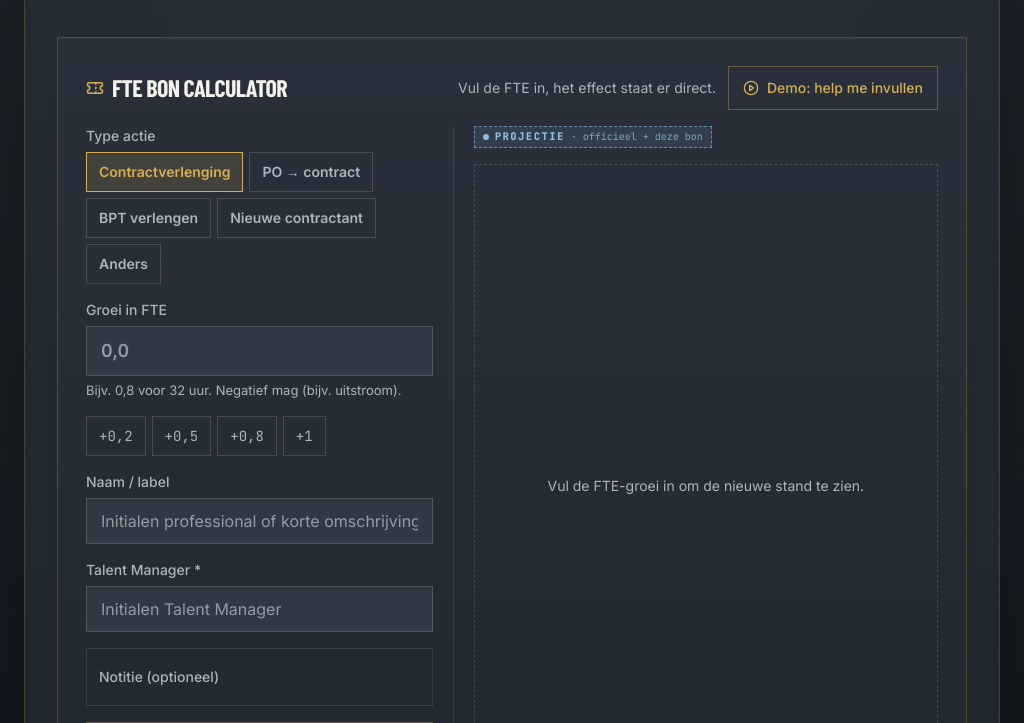
NetFtePage › label and Talent Manager are only needed to save — the calculation works without them
(page scrolled)
In the field labelled "Groei in FTE": [259, 352] box [86, 326, 433, 376], type "1"
(page scrolled)
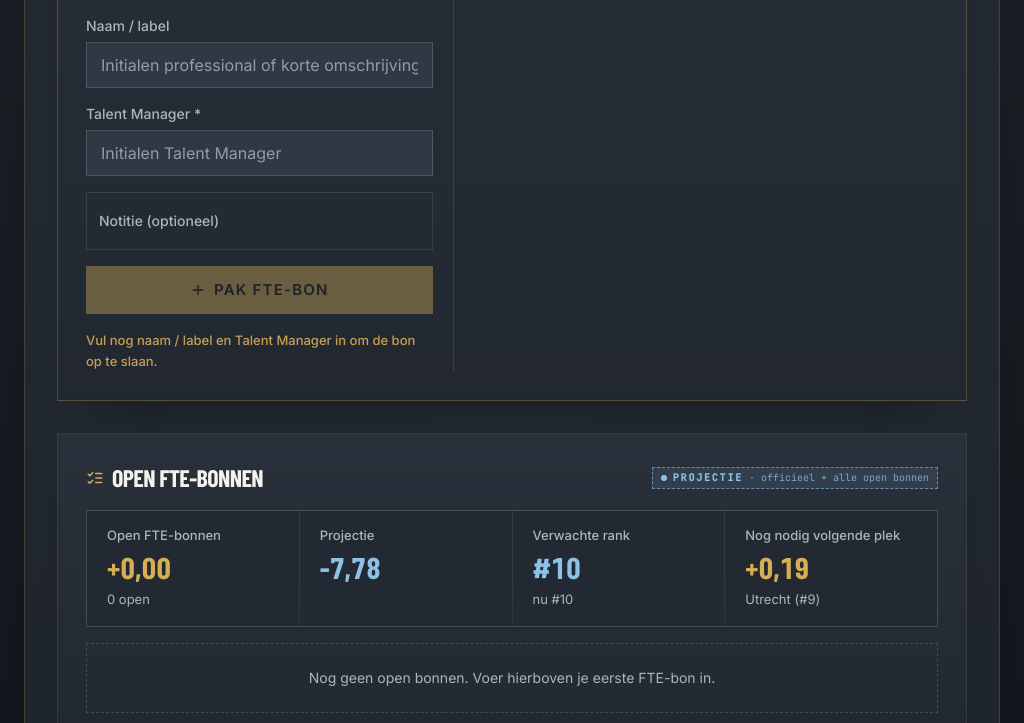
Check: the button "Pak FTE-bon" is disabled, box [86, 266, 433, 314]
Check: the text "Vul nog naam / label en Talent Manager in" is shown, box [86, 330, 433, 372]
